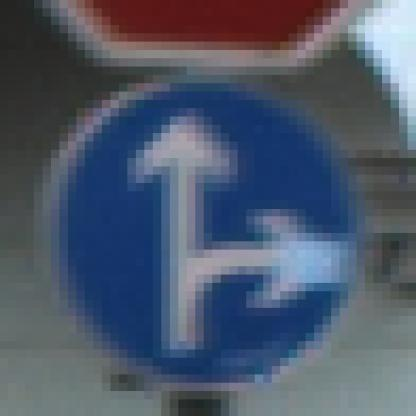Straight or Right: (44, 51, 366, 375)
